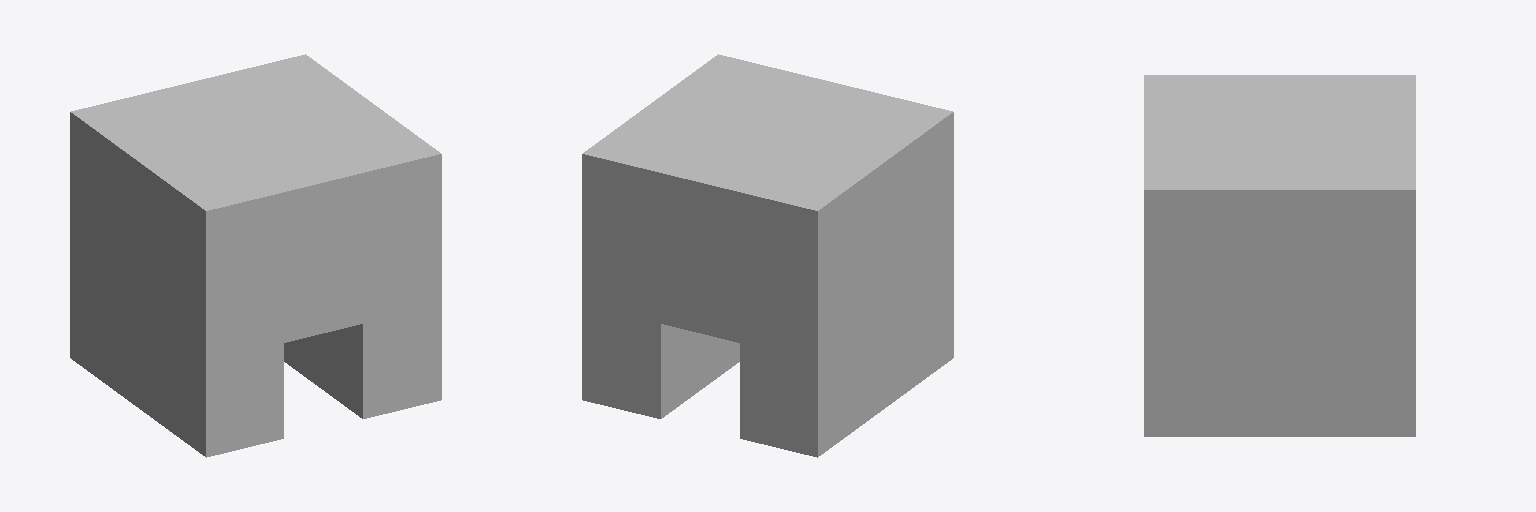
File: kostka_1000_1000_1000.obj
The picture shows the model from 3 angles: view 1: azimuth 30°, elevation 25°; view 2: azimuth 150°, elevation 25°; view 3: azimuth 270°, elevation 25°; orthographic projection.
Parts seen in each view (by area): view 1: obj1; view 2: obj1; view 3: obj1.
Part boxes in pixels (left/top/right/bottom): obj1: left=70, top=54, right=441, bottom=457; obj1: left=582, top=54, right=953, bottom=457; obj1: left=1144, top=75, right=1415, bottom=436.
Size of the model in its own units: 39.37 by 39.37 by 39.37.